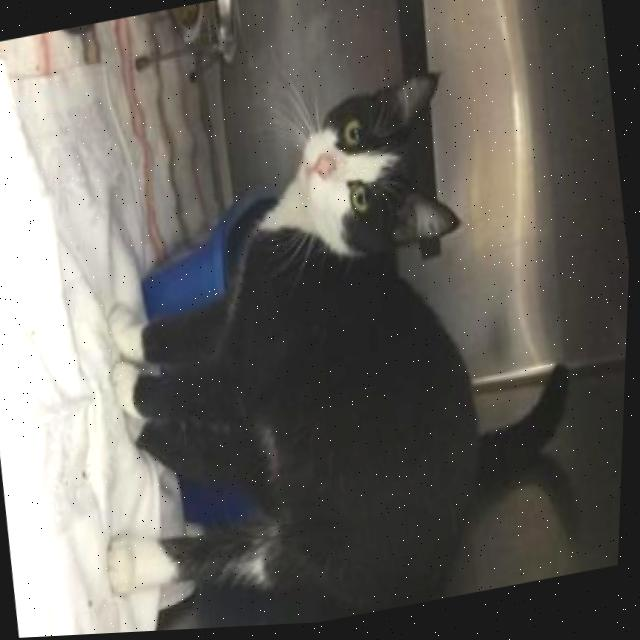Tuxedo: (42, 45, 618, 638)
